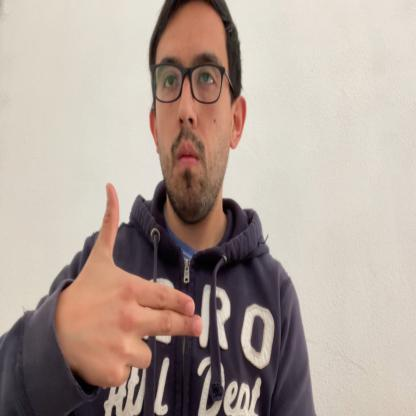H: (66, 180, 203, 386)
